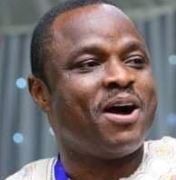without_facemask: (63, 82, 168, 159)
